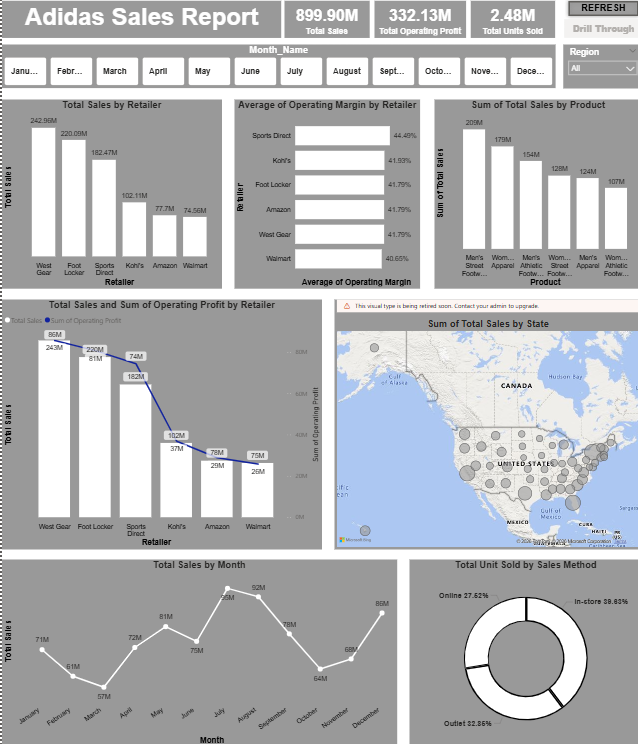

What the dashboard file says about the page in this screenshot:
{"tool":"powerbi","page":{"name":"Dashboard","canvas":[1280,1500],"ordinal":0},"visuals":[{"type":"textbox","box":[0,8.6,558.6,74.3],"z":0},{"type":"card","fields":{"Values":["Sum(Data Sales Adidas.Total Sales)"]},"box":[565.7,8.6,170,74.3],"z":1000},{"type":"card","fields":{"Values":["Sum(Data Sales Adidas.Operating Profit)"]},"box":[745.7,8.6,182.9,74.3],"z":2000},{"type":"card","fields":{"Values":["Sum(Data Sales Adidas.Units Sold)"]},"box":[938.6,8.6,168.6,74.3],"z":3000},{"type":"advancedSlicerVisual","fields":{"Values":["Date_Master_table.Month_Name"]},"box":[0,95,1107.5,87.5],"z":4000},{"type":"columnChart","fields":{"Category":["Data Sales Adidas.Retailer"],"Y":["Sum(Data Sales Adidas.Total Sales)"]},"box":[0,205.7,440,378.6],"z":5000},{"type":"columnChart","fields":{"Category":["Data Sales Adidas.Product"],"Y":["Sum(Data Sales Adidas.Total Sales)"]},"box":[865.7,205.7,414.3,378.6],"z":6000},{"type":"lineChart","fields":{"Y":["Sum(Data Sales Adidas.Total Sales)"],"Category":["Date_Master_table.Date.Variation.Date Hierarchy.Year","Date_Master_table.Date.Variation.Date Hierarchy.Quarter","Date_Master_table.Date.Variation.Date Hierarchy.Month","Date_Master_table.Date.Variation.Date Hierarchy.Day"]},"box":[0,1124,790,376],"z":7000},{"type":"donutChart","fields":{"Category":["Data Sales Adidas.Sales Method"],"Y":["Sum(Data Sales Adidas.Total Sales)"]},"box":[814,1124,466,376],"z":8000},{"type":"map","fields":{"Category":["Data Sales Adidas.State"],"Size":["Sum(Data Sales Adidas.Total Sales)"]},"box":[666,604,614,500],"z":9000},{"type":"lineStackedColumnComboChart","fields":{"Y":["Sum(Data Sales Adidas.Total Sales)"],"Category":["Data Sales Adidas.Retailer"],"Y2":["Sum(Data Sales Adidas.Operating Profit)"]},"box":[0,604,640,500],"z":10000},{"type":"barChart","fields":{"Category":["Data Sales Adidas.Retailer"],"Y":["Avg(Data Sales Adidas.Operating Margin)"]},"box":[465.7,205.7,371.4,378.6],"z":11000},{"type":"slicer","fields":{"Values":["Data Sales Adidas.Region"]},"box":[1122,96,158,88],"z":12000},{"type":"actionButton","box":[1124,0,156,46],"z":13000},{"type":"actionButton","box":[1124,46,156,36],"z":14000}]}

Visuals, with their boxes in screenshot pixels (x1, y1, x2, y2), scaled from the page's 1280x1500 canvas onto the 638x744 screenshot:
textbox: crop(0, 4, 278, 41)
card - Sum(Data Sales Adidas.Total Sales): crop(282, 4, 367, 41)
card - Sum(Data Sales Adidas.Operating Profit): crop(372, 4, 463, 41)
card - Sum(Data Sales Adidas.Units Sold): crop(468, 4, 552, 41)
advancedSlicerVisual - Date_Master_table.Month_Name: crop(0, 47, 552, 91)
columnChart - Data Sales Adidas.Retailer x Sum(Data Sales Adidas.Total Sales): crop(0, 102, 219, 290)
columnChart - Data Sales Adidas.Product x Sum(Data Sales Adidas.Total Sales): crop(431, 102, 637, 290)
lineChart - Sum(Data Sales Adidas.Total Sales) x Date_Master_table.Date.Variation.Date Hierarchy.Year: crop(0, 558, 394, 743)
donutChart - Data Sales Adidas.Sales Method x Sum(Data Sales Adidas.Total Sales): crop(406, 558, 637, 743)
map - Data Sales Adidas.State x Sum(Data Sales Adidas.Total Sales): crop(332, 300, 637, 548)
lineStackedColumnComboChart - Sum(Data Sales Adidas.Total Sales) x Data Sales Adidas.Retailer: crop(0, 300, 319, 548)
barChart - Data Sales Adidas.Retailer x Avg(Data Sales Adidas.Operating Margin): crop(232, 102, 417, 290)
slicer - Data Sales Adidas.Region: crop(559, 48, 637, 91)
actionButton: crop(560, 0, 637, 23)
actionButton: crop(560, 23, 637, 41)
